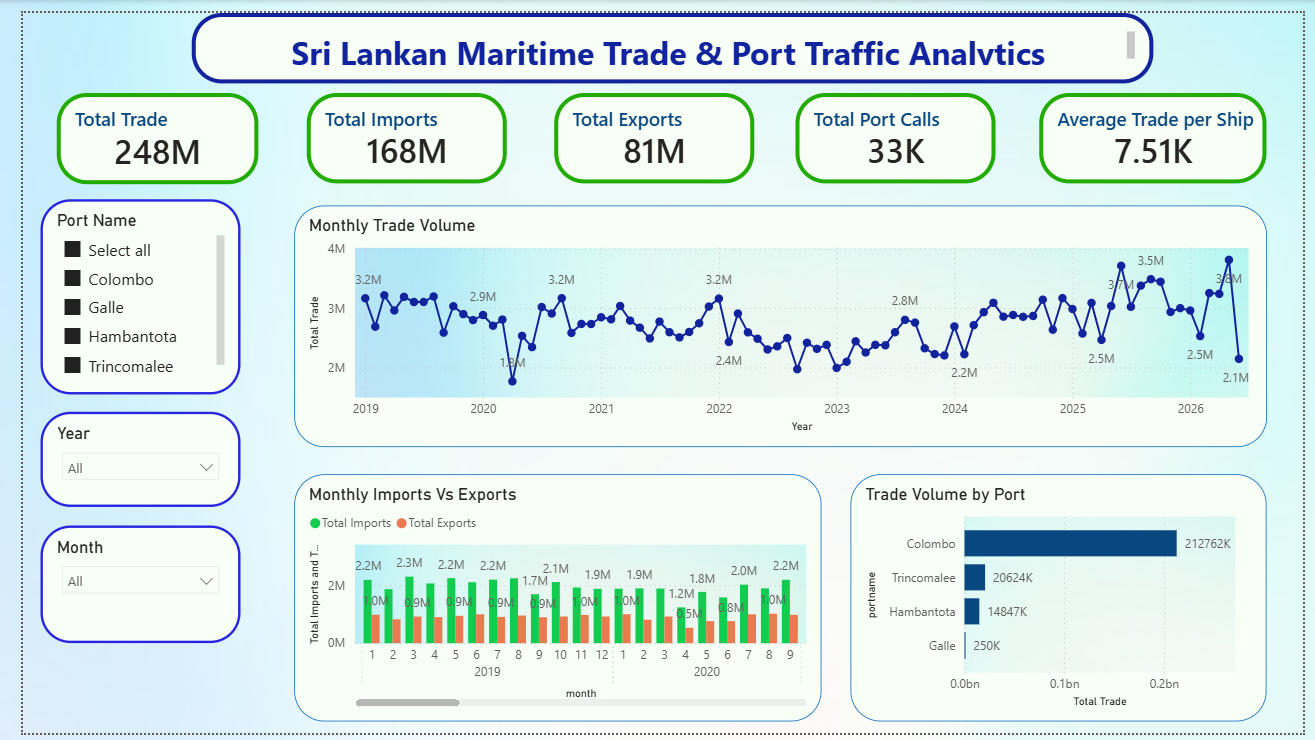

The dashboard page shown, as its layout file describes it:
{"tool":"powerbi","page":{"name":"Page 1-Executive Overview ","canvas":[1280,720],"ordinal":0},"visuals":[{"type":"card","title":"Total Trade","fields":{"Values":["processed_sri_lanka_port_data.Total Trade"]},"box":[33.8,80,201.2,91.2],"z":0},{"type":"card","title":"Total Imports","fields":{"Values":["processed_sri_lanka_port_data.Total Imports"]},"box":[283.8,80,200,90],"z":1000},{"type":"card","title":"Total Exports","fields":{"Values":["processed_sri_lanka_port_data.Total Exports"]},"box":[531.2,80,200,90],"z":2000},{"type":"card","title":"Total Port Calls","fields":{"Values":["processed_sri_lanka_port_data.Total Port Calls"]},"box":[772.5,80,200,90],"z":3000},{"type":"card","title":"Average Trade per Ship","fields":{"Values":["processed_sri_lanka_port_data.Average Trade per Ship"]},"box":[1016.2,80,227.5,90],"z":4000},{"type":"lineChart","title":"Monthly Trade Volume","fields":{"Y":["processed_sri_lanka_port_data.Total Trade"],"Category":["processed_sri_lanka_port_data.year_month.Variation.Date Hierarchy.Year","processed_sri_lanka_port_data.year_month.Variation.Date Hierarchy.Quarter","processed_sri_lanka_port_data.year_month.Variation.Date Hierarchy.Month","processed_sri_lanka_port_data.year_month.Variation.Date Hierarchy.Day"]},"box":[271.2,192.5,972.5,241.2],"z":5000},{"type":"clusteredColumnChart","title":"Monthly Imports Vs Exports","fields":{"Category":["processed_sri_lanka_port_data.year_month.Variation.Date Hierarchy.Year","processed_sri_lanka_port_data.month"],"Y":["processed_sri_lanka_port_data.Total Imports","processed_sri_lanka_port_data.Total Exports"]},"box":[271.2,461.2,527.5,247.5],"z":6000},{"type":"clusteredBarChart","title":"Trade Volume by Port","fields":{"Category":["processed_sri_lanka_port_data.portname"],"Y":["processed_sri_lanka_port_data.Total Trade"]},"box":[827.5,461.2,416.2,247.5],"z":7000},{"type":"slicer","title":"Port Name","fields":{"Values":["processed_sri_lanka_port_data.portname"]},"box":[17.5,186.2,200,195],"z":8000},{"type":"slicer","title":"Year","fields":{"Values":["processed_sri_lanka_port_data.year"]},"box":[17.5,398.8,200,95],"z":9000},{"type":"slicer","title":"Month","fields":{"Values":["processed_sri_lanka_port_data.month"]},"box":[17.5,512.5,200,117.5],"z":10000},{"type":"textbox","box":[168.8,0,961.2,70],"z":11000}]}

Visuals, with their boxes in screenshot pixels (x1, y1, x2, y2), scaled from the page's 1280x720 canvas onto the 1315x740 screenshot:
"Total Trade" card: {"x1": 35, "y1": 82, "x2": 241, "y2": 176}
"Total Imports" card: {"x1": 292, "y1": 82, "x2": 497, "y2": 175}
"Total Exports" card: {"x1": 546, "y1": 82, "x2": 751, "y2": 175}
"Total Port Calls" card: {"x1": 794, "y1": 82, "x2": 999, "y2": 175}
"Average Trade per Ship" card: {"x1": 1044, "y1": 82, "x2": 1278, "y2": 175}
"Monthly Trade Volume" lineChart: {"x1": 279, "y1": 198, "x2": 1278, "y2": 446}
"Monthly Imports Vs Exports" clusteredColumnChart: {"x1": 279, "y1": 474, "x2": 821, "y2": 728}
"Trade Volume by Port" clusteredBarChart: {"x1": 850, "y1": 474, "x2": 1278, "y2": 728}
"Port Name" slicer: {"x1": 18, "y1": 191, "x2": 223, "y2": 392}
"Year" slicer: {"x1": 18, "y1": 410, "x2": 223, "y2": 508}
"Month" slicer: {"x1": 18, "y1": 527, "x2": 223, "y2": 647}
textbox: {"x1": 173, "y1": 0, "x2": 1161, "y2": 72}
